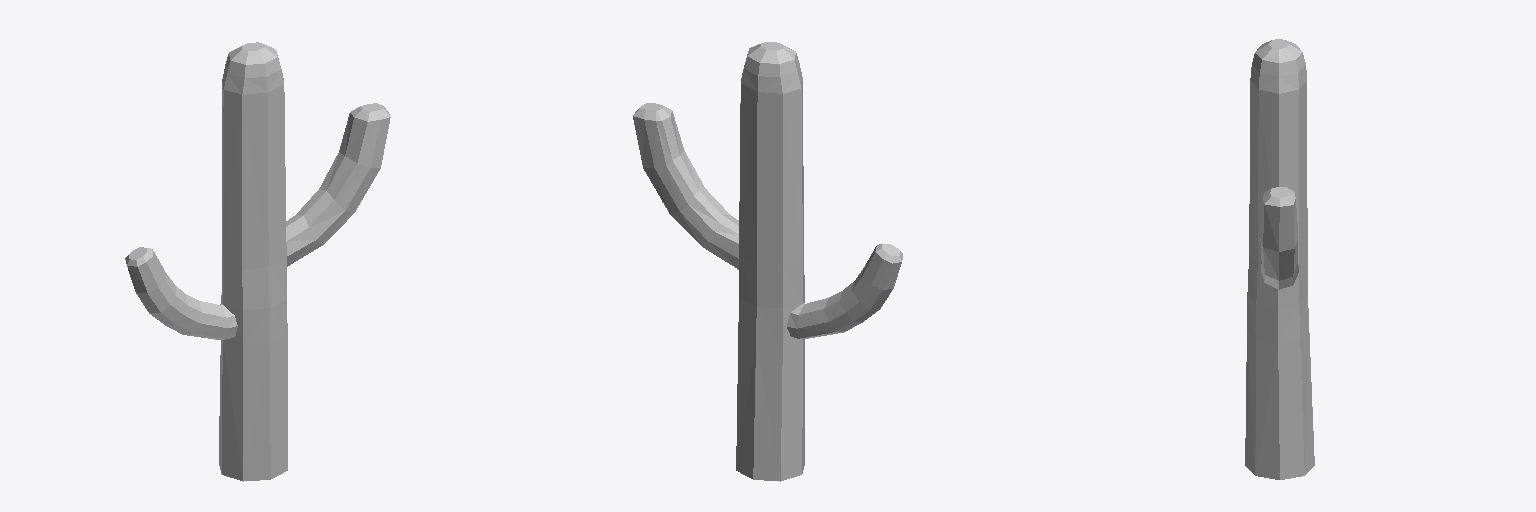
Rendered from cactus2.obj.
3 renders of one model, left to right at view 1: azimuth 30°, elevation 25°; view 2: azimuth 150°, elevation 25°; view 3: azimuth 270°, elevation 25°, orthographic.
Visible parts, largest first — view 1: cactus_2_Cylinder.017; view 2: cactus_2_Cylinder.017; view 3: cactus_2_Cylinder.017.
Part boxes in pixels (left/top/right/bottom): cactus_2_Cylinder.017: left=125, top=42, right=390, bottom=481; cactus_2_Cylinder.017: left=633, top=42, right=902, bottom=481; cactus_2_Cylinder.017: left=1245, top=39, right=1314, bottom=479.
Size of the model in its own units: 1.9 by 2.9 by 0.4359.